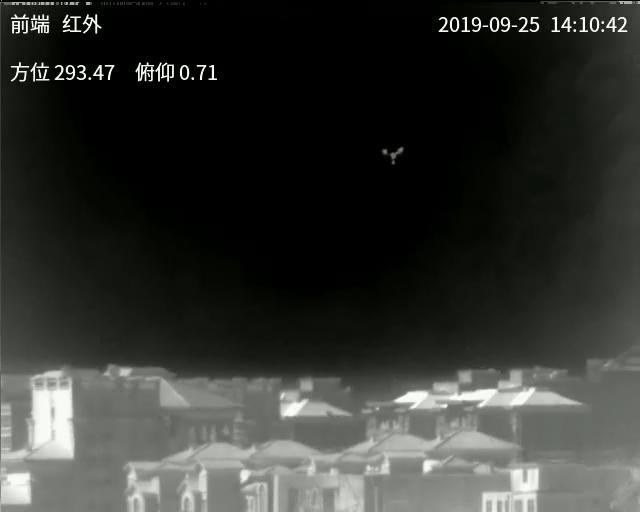uav: (379, 142, 404, 167)
